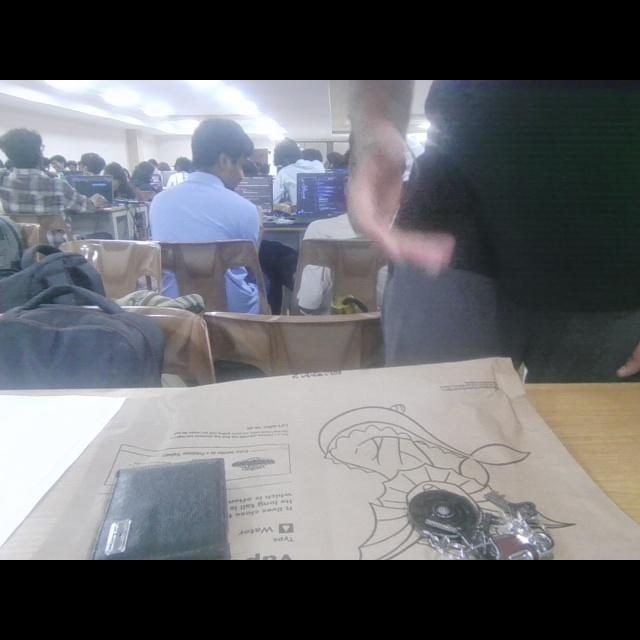keys: (400, 460, 576, 560)
wallet: (91, 452, 251, 560)
